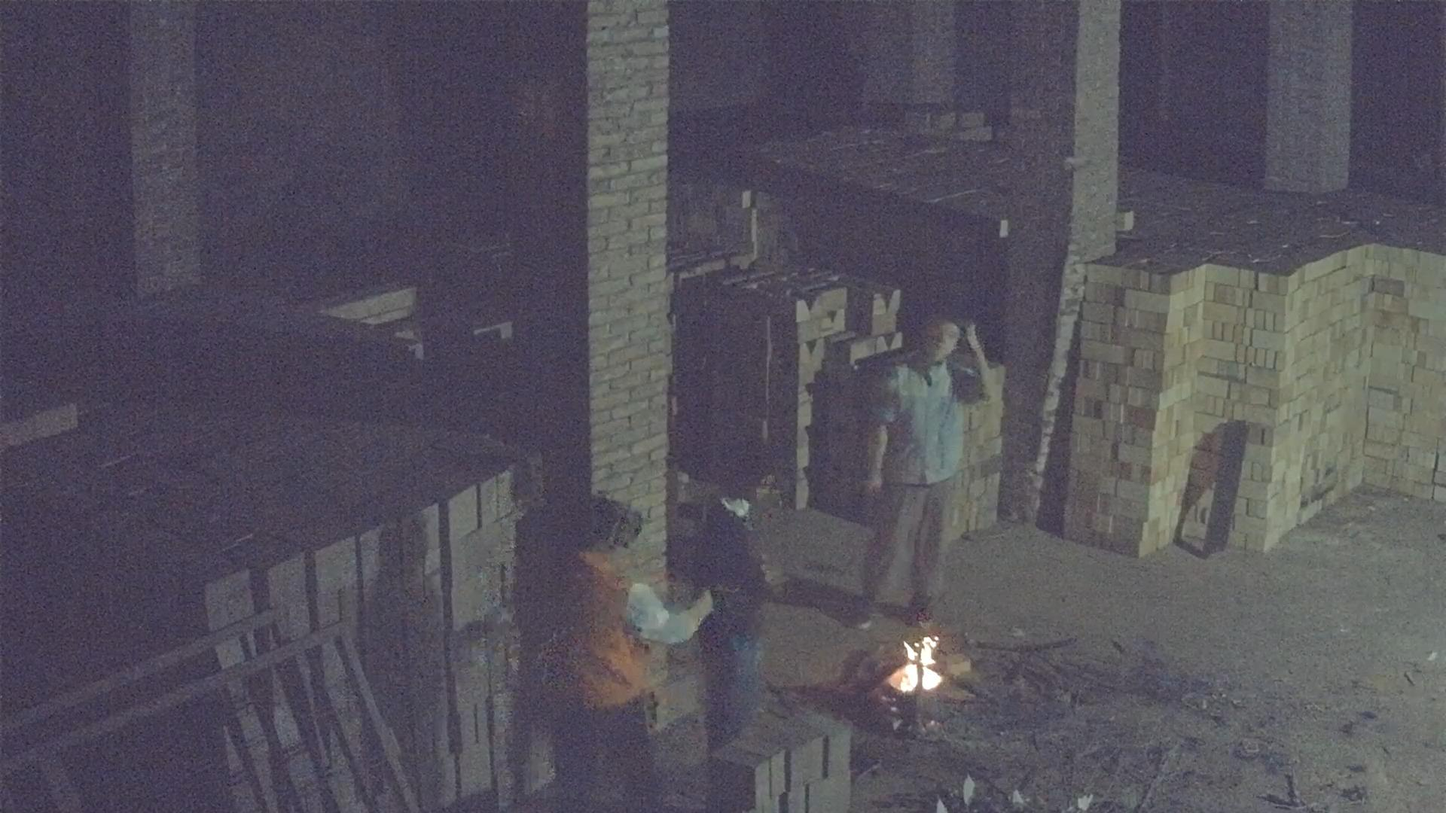fire: (886, 636, 944, 695)
